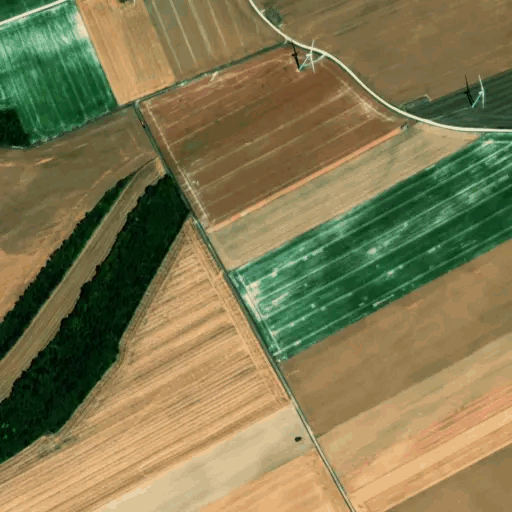wt: (290, 29, 322, 81), (458, 71, 489, 116)
